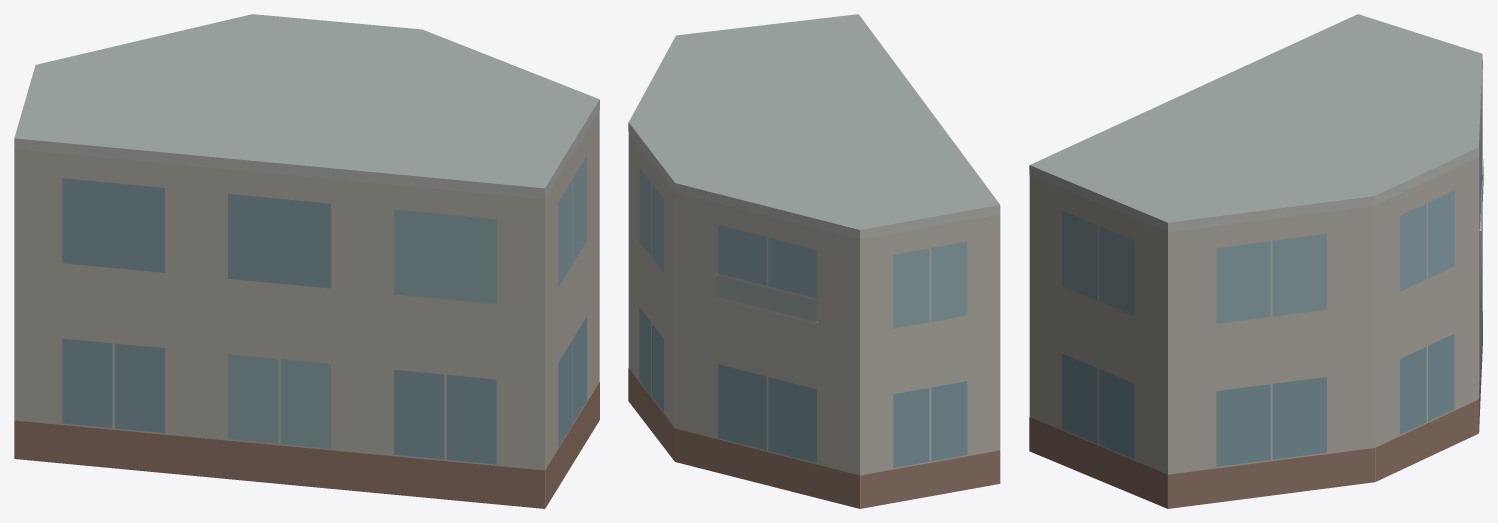
The model's file is survey-upis-32544331.glb.
The picture shows the model from 3 angles, left to right: view 1: azimuth 30°, elevation 25°; view 2: azimuth 150°, elevation 25°; view 3: azimuth 270°, elevation 25°; orthographic projection. The views are drawn at different scales.
Parts seen in each view (by area): view 1: survey-upis-32544331.tmp; view 2: survey-upis-32544331.tmp; view 3: survey-upis-32544331.tmp.
Part boxes in pixels (box(x1,y1,x2,y2)): survey-upis-32544331.tmp: box(14, 14, 599, 508); survey-upis-32544331.tmp: box(628, 14, 1000, 508); survey-upis-32544331.tmp: box(1029, 14, 1483, 508).
Size of the model in its own units: 11.43 by 7.3 by 10.51.
